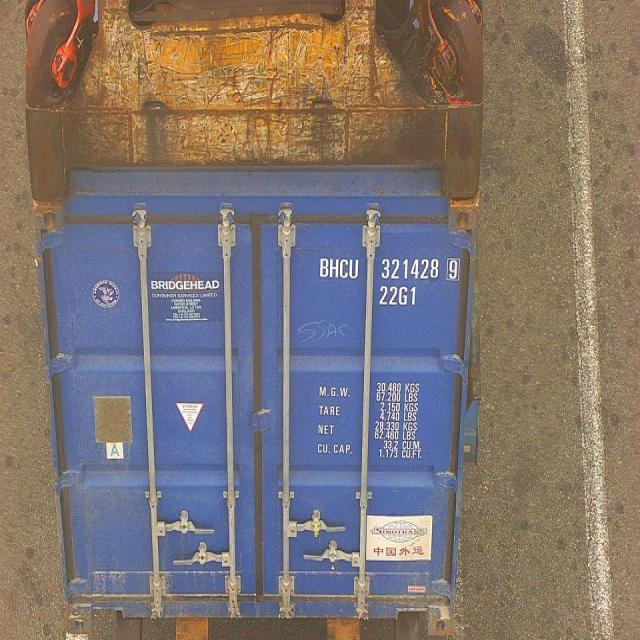ISO: (380, 285, 419, 307)
container_number: (316, 256, 460, 282)
